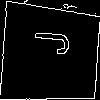J: (25, 28, 70, 56)
